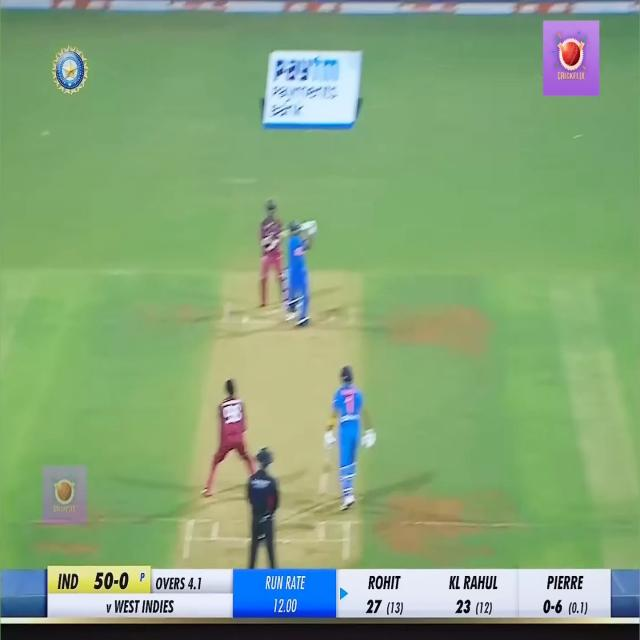fully_visible: (274, 46, 354, 92)
